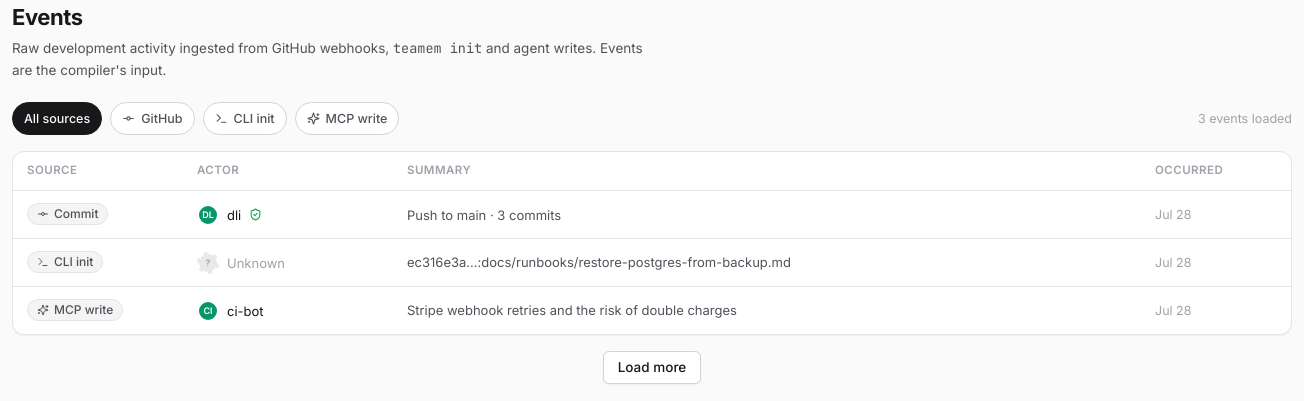
Test: EventsPage › filters GitHub events client-side because API only supports single sourceKind
The width and height of the screenshot is (1304, 401).
Click the button "GitHub" at (152, 119), box 110,102 -> 194,135
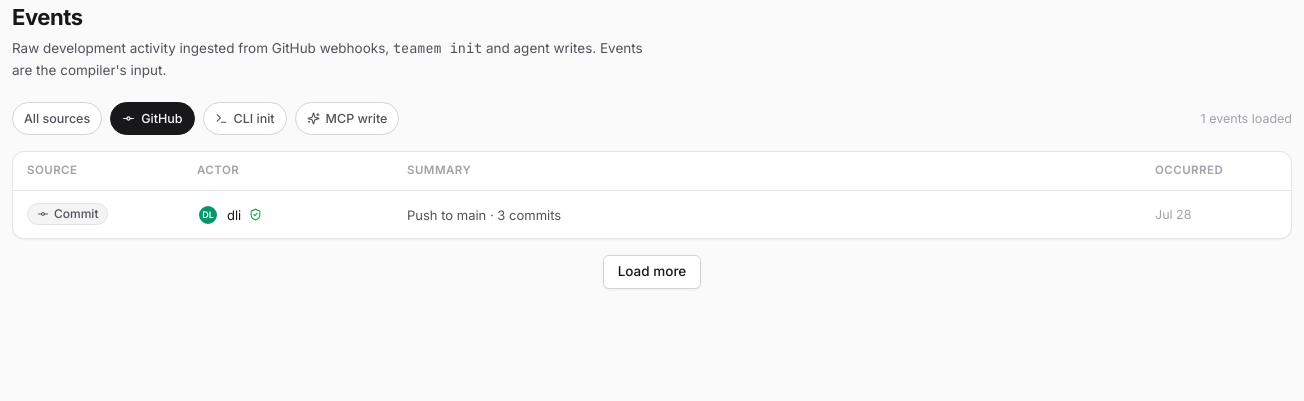
Expected: the text "Commit" is shown, 27,203 -> 108,225
Expected: the text "restore-postgres-from-backup.md" is gone
